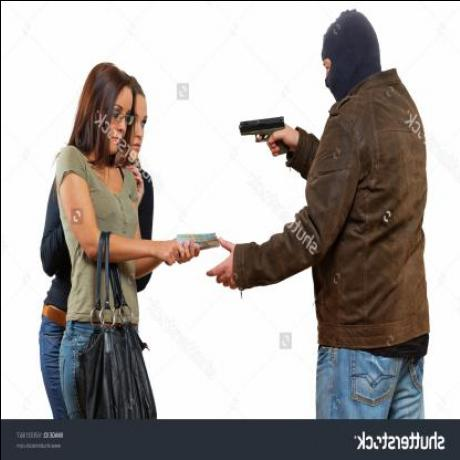1: (226, 12, 433, 410), (34, 58, 156, 417)
weapon: (236, 111, 288, 169)
